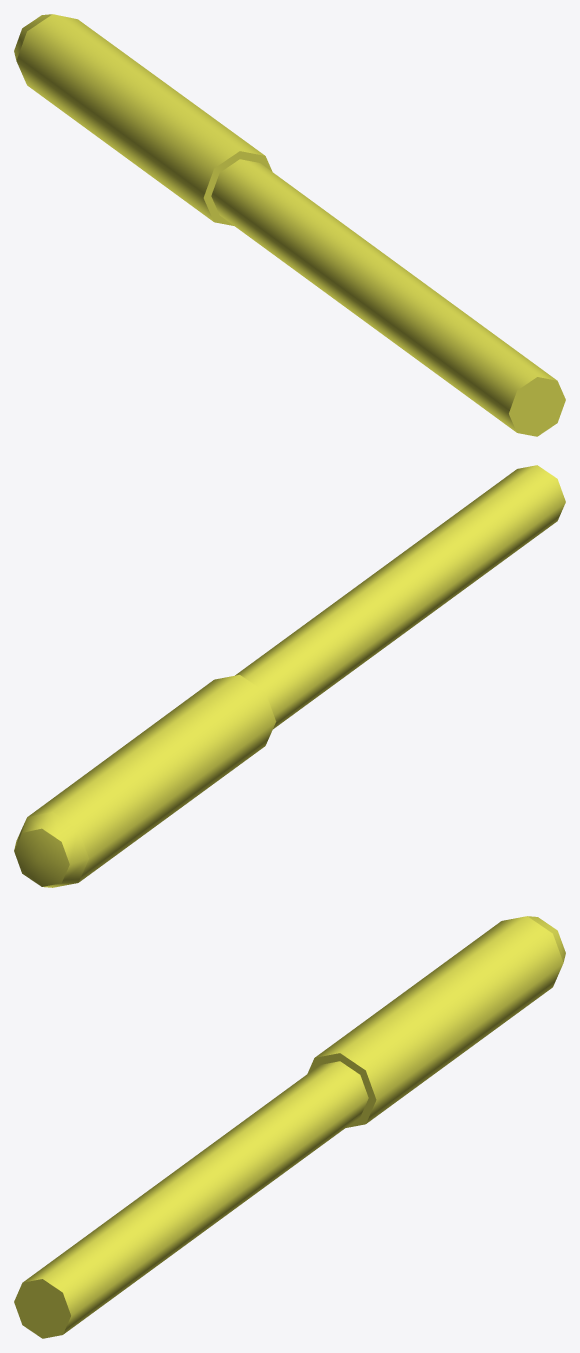
Rendered from Marcador.fbx.
3 renders of one model, top to bottom at view 1: azimuth 30°, elevation 25°; view 2: azimuth 150°, elevation 25°; view 3: azimuth 330°, elevation 25°, orthographic.
Parts seen in each view (by area): view 1: Marcador; view 2: Marcador; view 3: Marcador.
Boxes of the visible parts, x1,y1,x2,y2 form: Marcador: (14, 14, 565, 436); Marcador: (14, 465, 565, 887); Marcador: (14, 916, 565, 1338).
Size of the model in its own units: 0.0203 by 0.0203 by 0.242.
